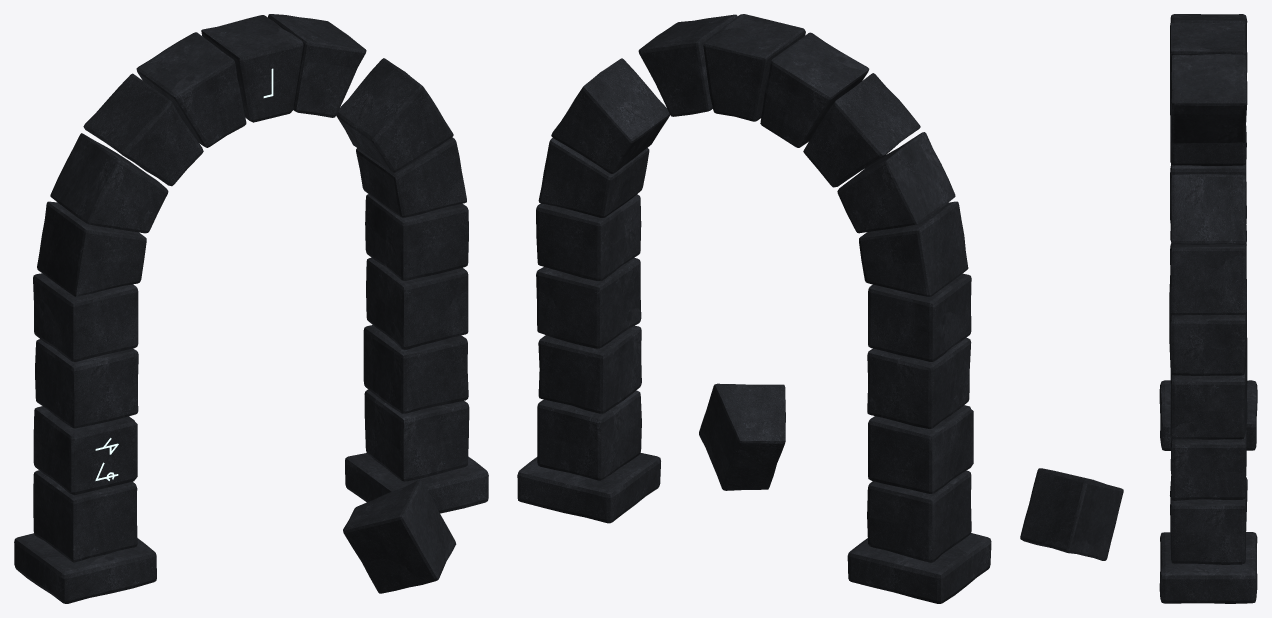
File: Ruina_Arco.fbx
3 renders of one model, left to right at view 1: azimuth 30°, elevation 25°; view 2: azimuth 150°, elevation 25°; view 3: azimuth 270°, elevation 25°, orthographic. The views are drawn at different scales.
Parts seen in each view (by area): view 1: Ruina_Arco_LOD0; view 2: Ruina_Arco_LOD0; view 3: Ruina_Arco_LOD0.
Part boxes in pixels (bbox=[...]): Ruina_Arco_LOD0: bbox=[14, 14, 488, 603]; Ruina_Arco_LOD0: bbox=[517, 14, 991, 603]; Ruina_Arco_LOD0: bbox=[1020, 14, 1257, 603].
Size of what is drawn, in the model's own units: 6.59 by 7.67 by 3.37.
